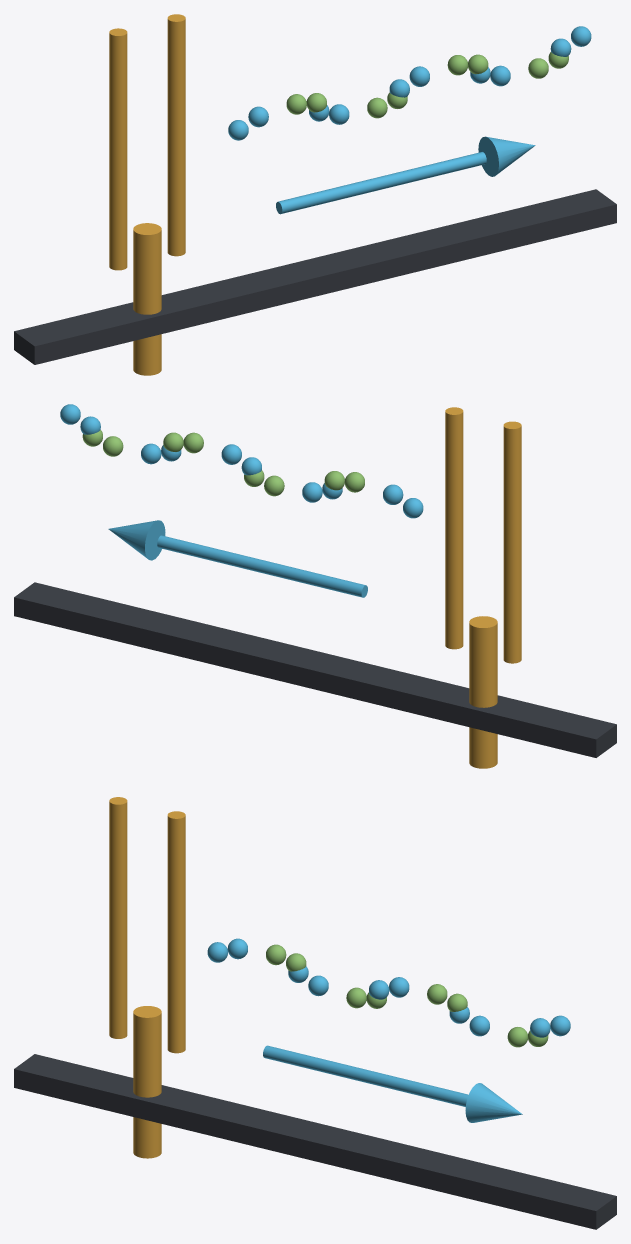
The model's file is physics-sound-vibration.glb.
3 renders of one model, top to bottom at view 1: azimuth 30°, elevation 25°; view 2: azimuth 150°, elevation 25°; view 3: azimuth 330°, elevation 25°, orthographic.
Parts seen in each view (by area): view 1: quiet-stage-reference-base, vibrating-source-tuning-fork-left, vibrating-source-tuning-fork-right, vibrating-source-handle, wave-direction-shaft, wave-direction-head; view 2: quiet-stage-reference-base, vibrating-source-tuning-fork-left, vibrating-source-tuning-fork-right, vibrating-source-handle, wave-direction-shaft, wave-direction-head; view 3: quiet-stage-reference-base, vibrating-source-tuning-fork-right, vibrating-source-tuning-fork-left, vibrating-source-handle, wave-direction-shaft, wave-direction-head.
Part boxes in pixels (box(x1,y1,x2,y2)): quiet-stage-reference-base: box(14, 189, 616, 364); vibrating-source-tuning-fork-left: box(109, 28, 127, 270); vibrating-source-tuning-fork-right: box(167, 14, 185, 256); vibrating-source-handle: box(133, 223, 161, 375); wave-direction-shaft: box(276, 152, 486, 214); wave-direction-head: box(478, 136, 535, 176); quiet-stage-reference-base: box(14, 582, 616, 757); vibrating-source-tuning-fork-left: box(503, 421, 521, 663); vibrating-source-tuning-fork-right: box(445, 407, 463, 649); vibrating-source-handle: box(469, 616, 497, 768); wave-direction-shaft: box(157, 535, 367, 597); wave-direction-head: box(108, 520, 165, 560); quiet-stage-reference-base: box(14, 1054, 616, 1229); vibrating-source-tuning-fork-right: box(167, 811, 185, 1053); vibrating-source-tuning-fork-left: box(109, 797, 127, 1038); vibrating-source-handle: box(133, 1006, 161, 1158); wave-direction-shaft: box(263, 1045, 468, 1106); wave-direction-head: box(465, 1083, 522, 1122).
Size of what is drawn, in the model's own units: 2.6 by 1.47 by 0.21.
